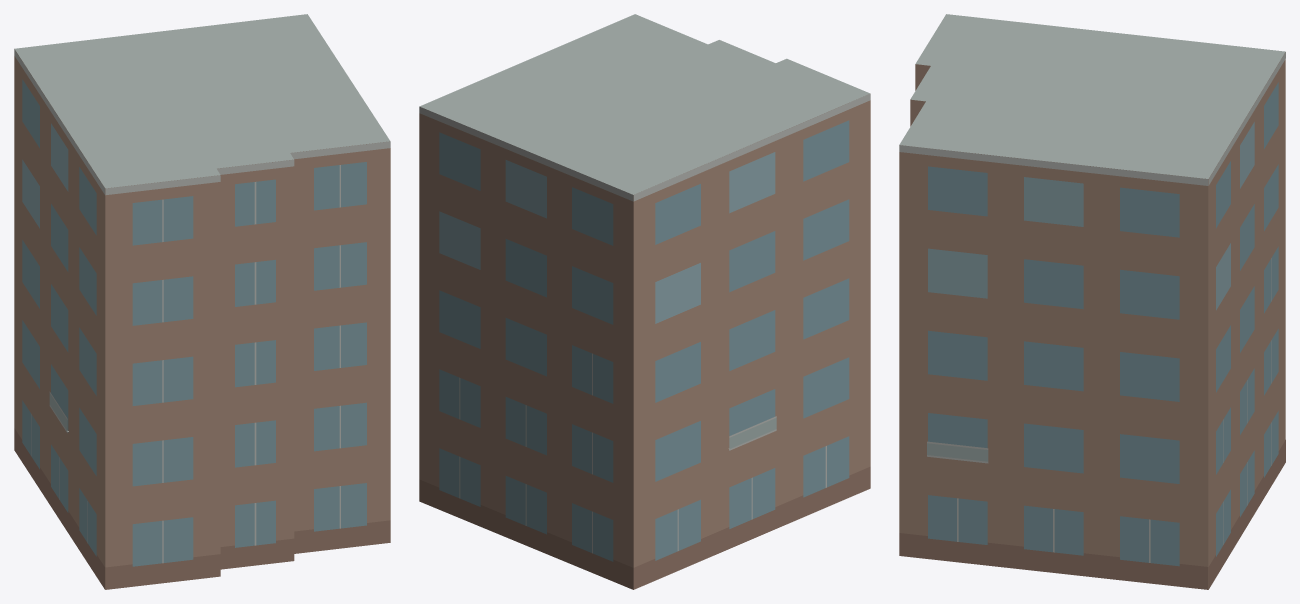
File: survey-upis-32880102.glb
The picture shows the model from 3 angles, left to right: view 1: azimuth 30°, elevation 25°; view 2: azimuth 150°, elevation 25°; view 3: azimuth 270°, elevation 25°; orthographic projection. The views are drawn at different scales.
Parts seen in each view (by area): view 1: survey-upis-32880102.tmp; view 2: survey-upis-32880102.tmp; view 3: survey-upis-32880102.tmp.
Part boxes in pixels (box(x1,y1,x2,y2)): survey-upis-32880102.tmp: box(14, 14, 390, 589); survey-upis-32880102.tmp: box(419, 14, 870, 589); survey-upis-32880102.tmp: box(899, 14, 1285, 589).
Size of the model in its own units: 12.42 by 14.4 by 12.29.
